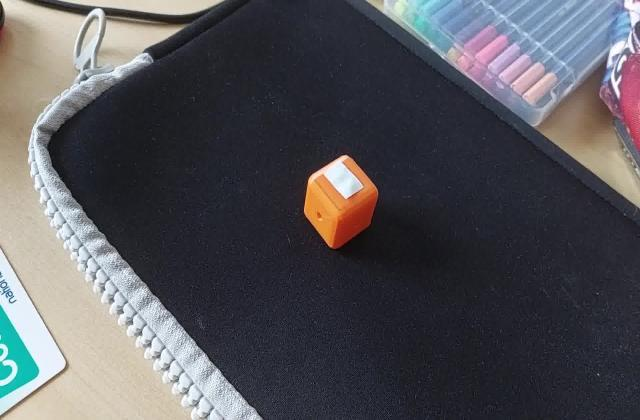sticker: (304, 154, 384, 252)
white: (326, 170, 366, 200)
